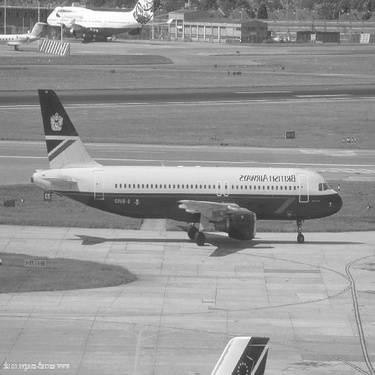airplane: (24, 76, 347, 252), (43, 1, 165, 46), (200, 333, 281, 371), (1, 22, 51, 56)
